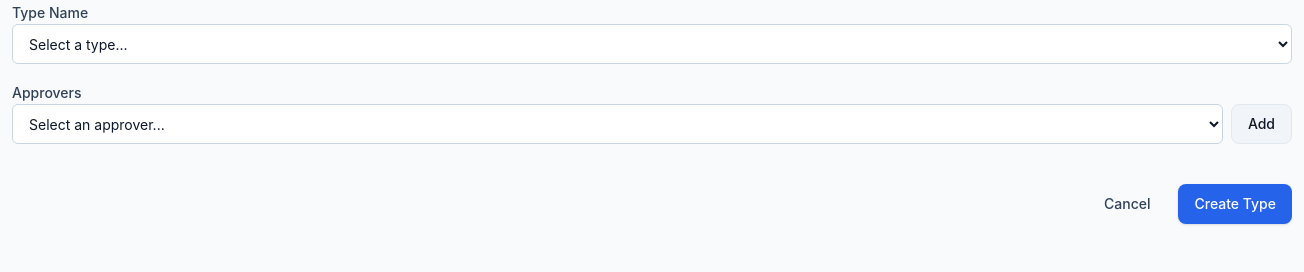
Test case: CreateRequestTypeForm Component › can add and remove approvers
Select "Approver One (a1@example.com)" in the dropdown with id "approver-select": (617, 124) [12, 104, 1223, 144]
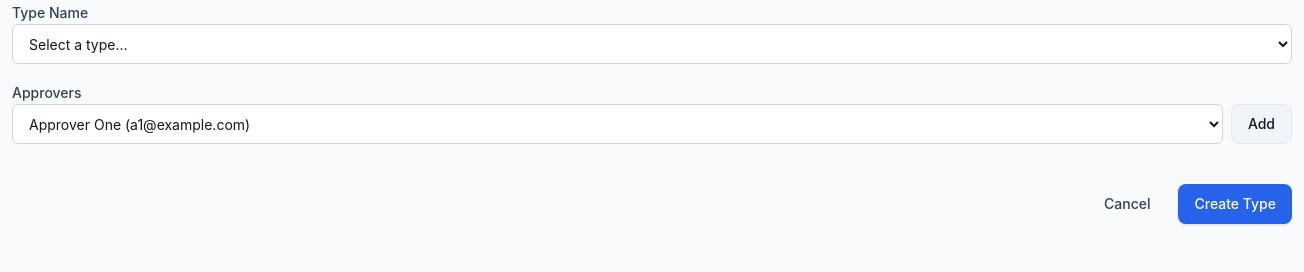
Click the button "Add": (1261, 124) [1231, 104, 1292, 144]
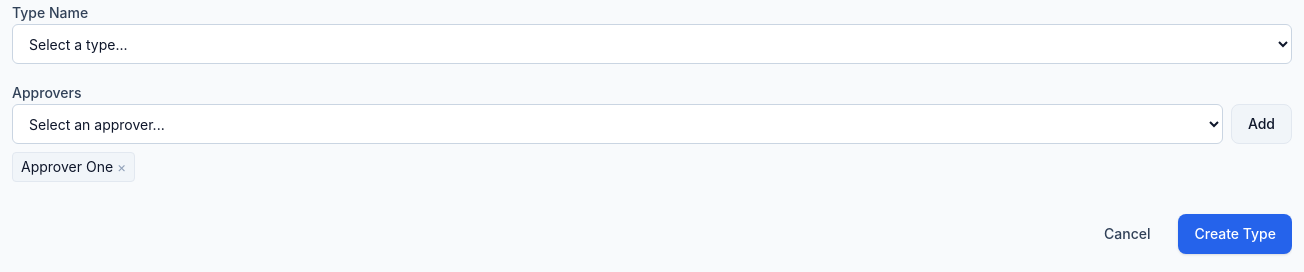
Click the button "×": (122, 167) [117, 157, 126, 177]
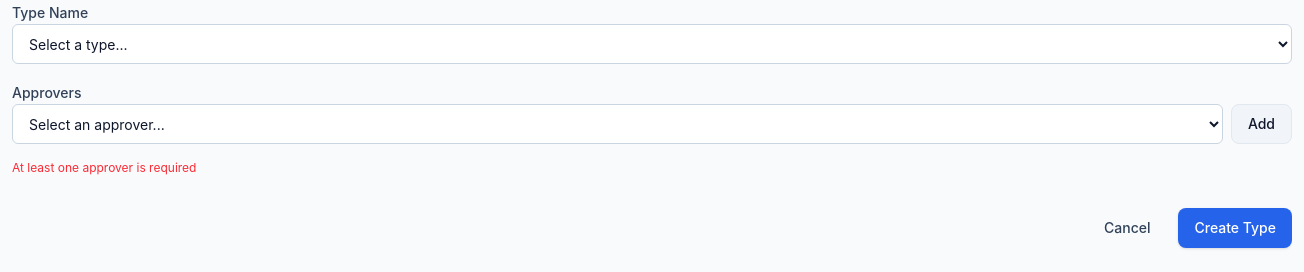
Check: the text "Approver One" is gone
